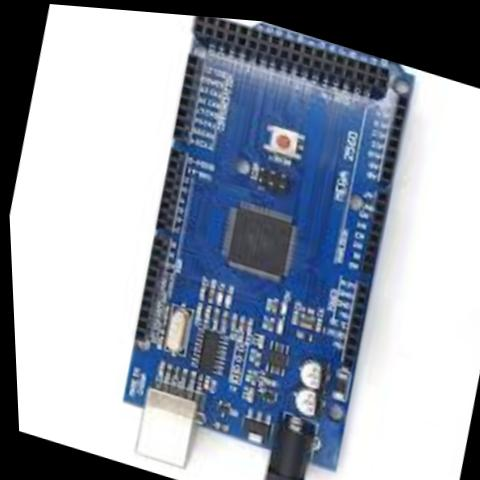Arduino-Mega: (60, 4, 448, 480)
